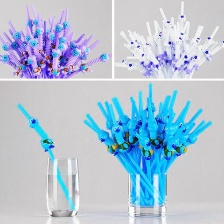drinking_straw: (11, 97, 78, 219)
glass: (43, 153, 82, 221), (124, 171, 171, 221)
